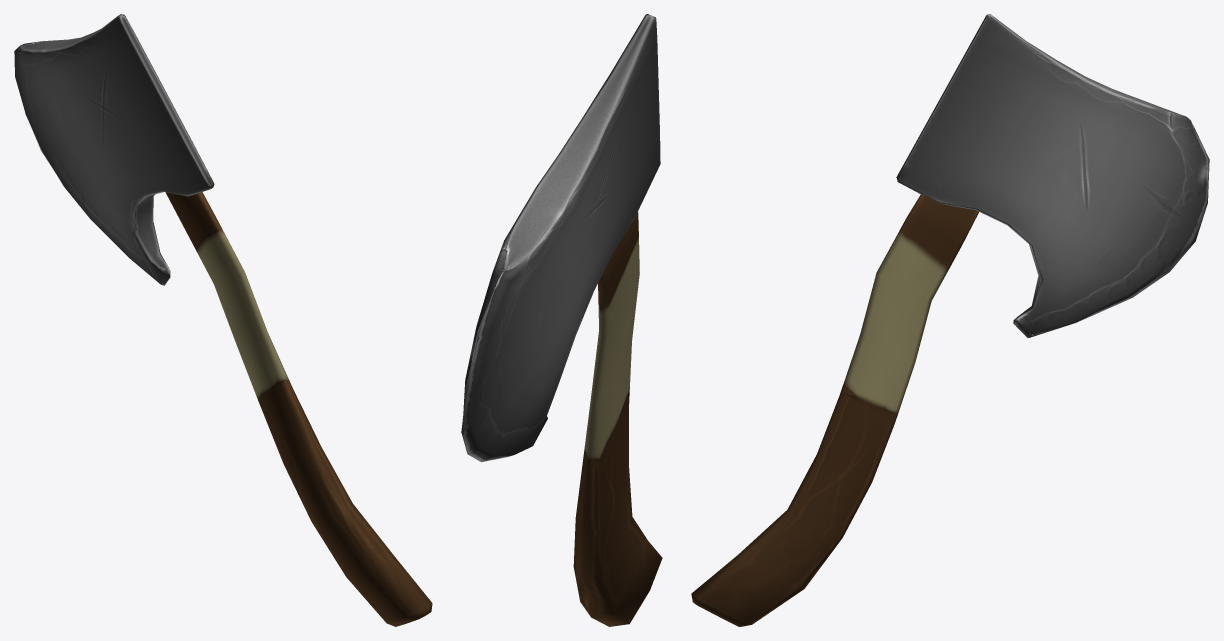
Rendered from axe.FBX.
3 views of the same model, side by side, from view 1: azimuth 30°, elevation 25°; view 2: azimuth 150°, elevation 25°; view 3: azimuth 270°, elevation 25° (orthographic). The views are drawn at different scales.
Parts seen in each view (by area): view 1: Box009; view 2: Box009; view 3: Box009.
Boxes of the visible parts, x1,y1,x2,y2 form: Box009: [14, 14, 432, 626]; Box009: [461, 14, 662, 626]; Box009: [691, 14, 1209, 626].
Bounding box in the file's own units: 35.1 × 108 × 93.67.
1 material, 1 textured.
